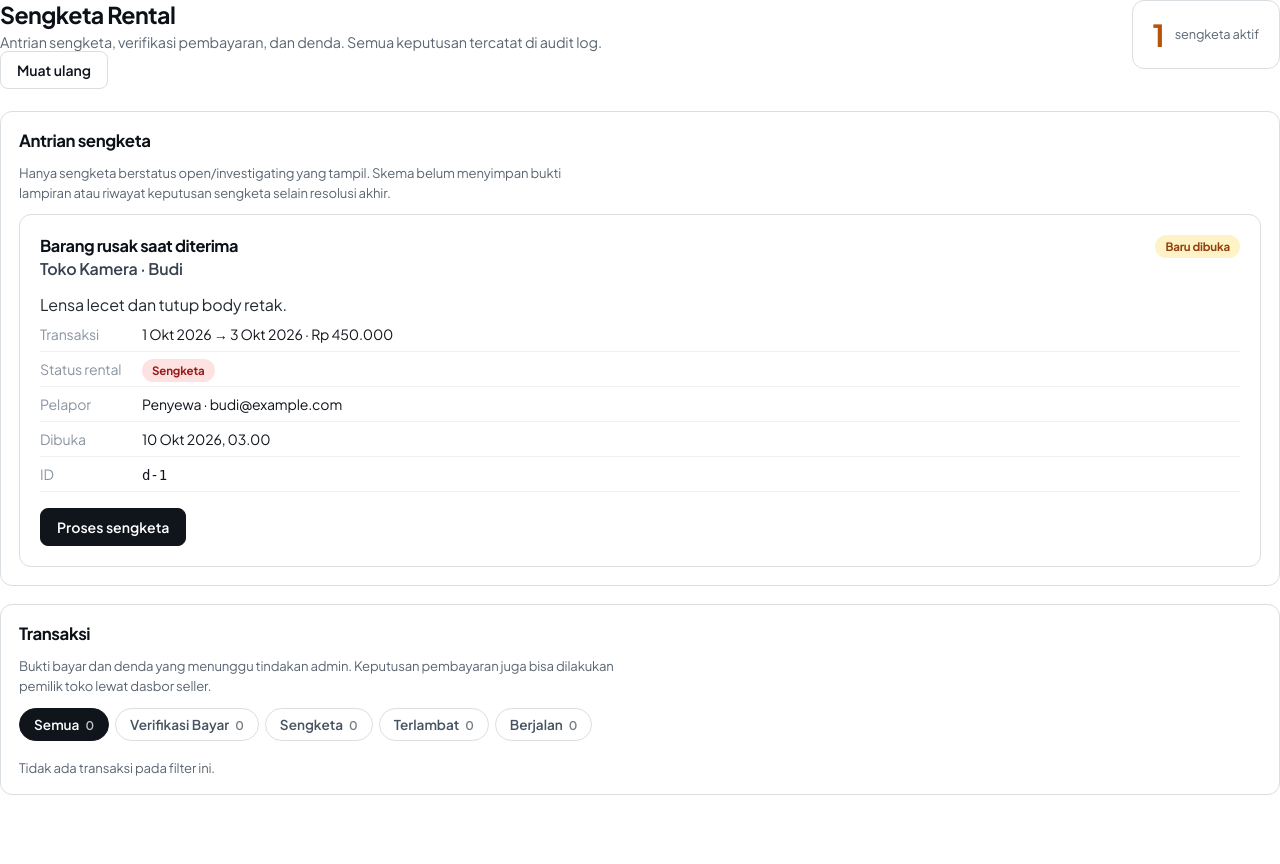
Test case: AdminOrders — resolusi sengketa › gagal: error diterjemahkan dan isian resolusi tidak hilang
Expected: the heading "Barang rusak saat diterima" is shown, [40,235,238,256]
Click the button "Proses sengketa": (113, 527) [40,508,186,546]
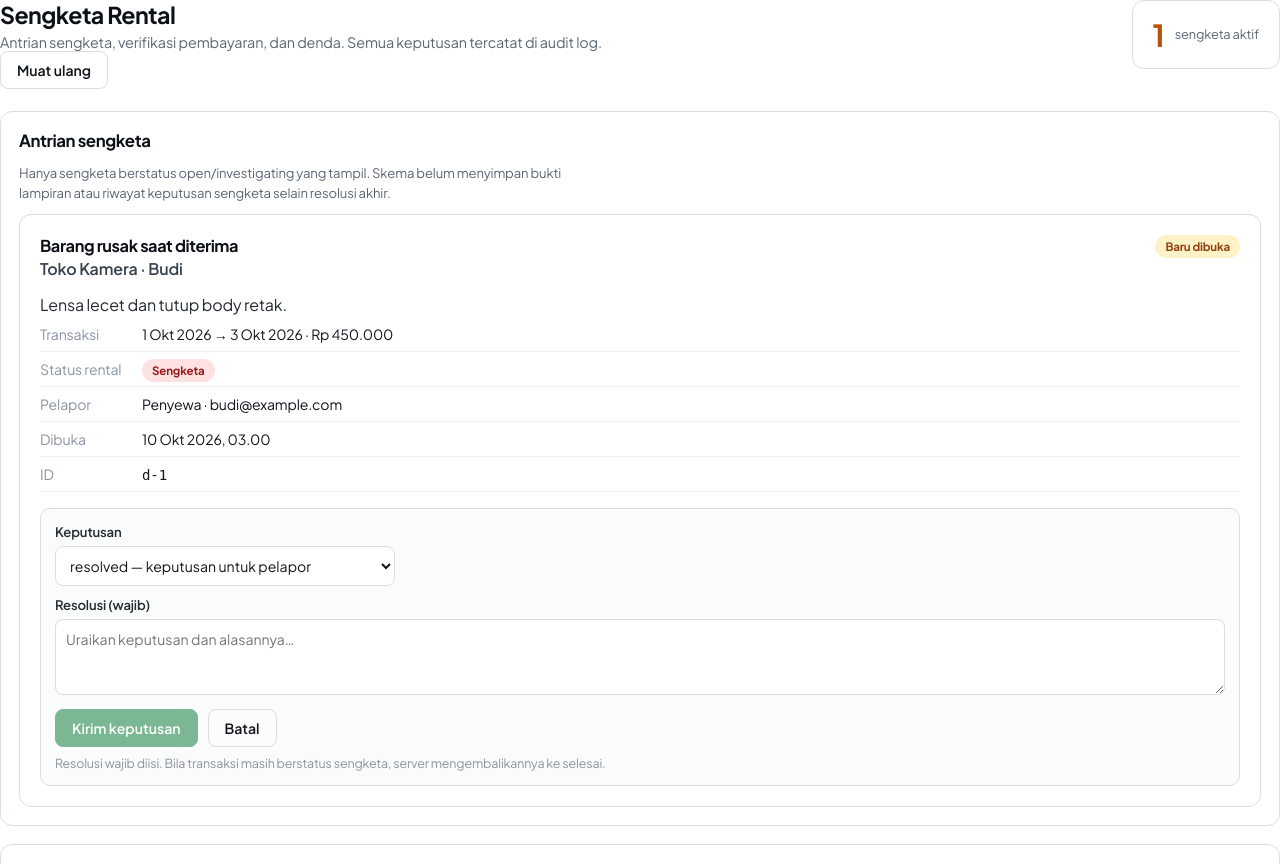
In the text box labelled "Resolusi (wajib)": (640, 657) [55,619,1225,695], type "Keputusan sementara"
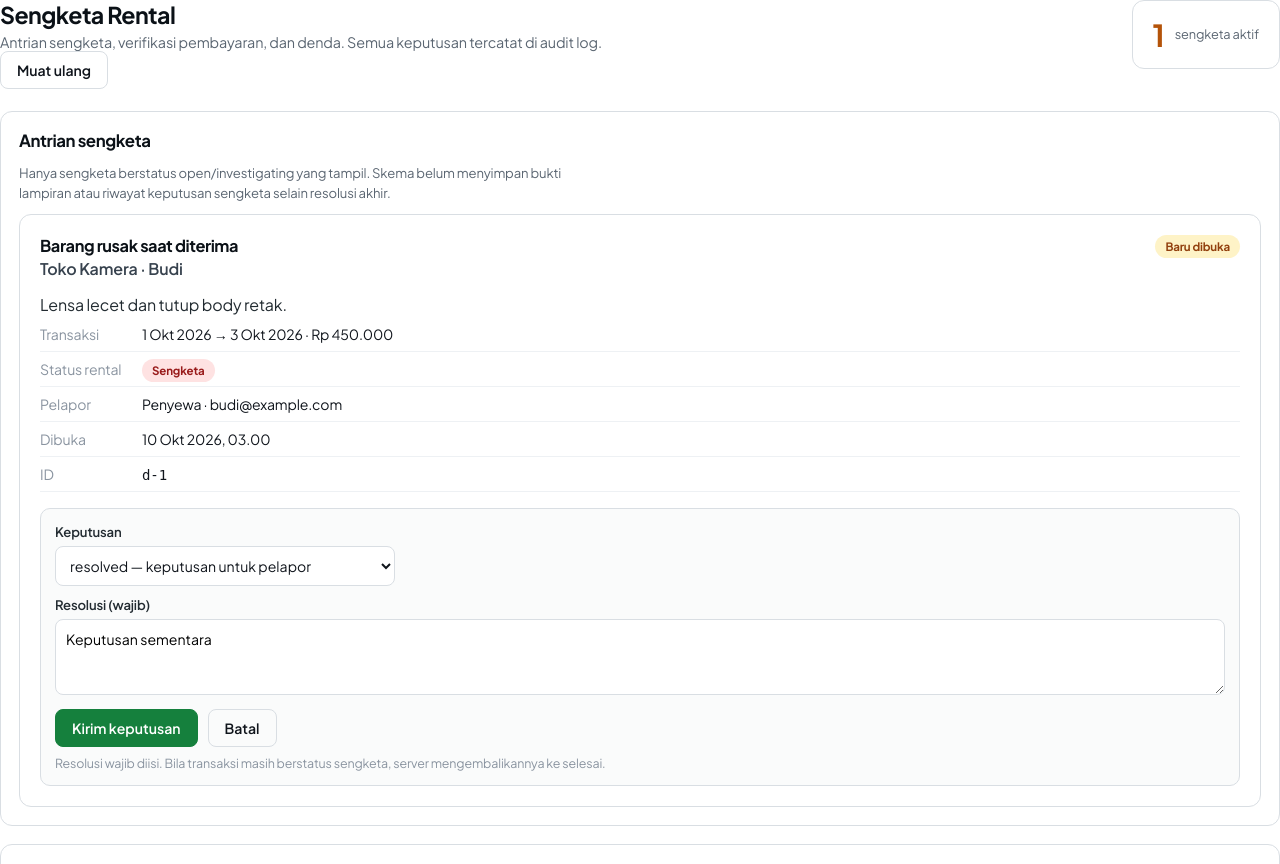
Click the button "Kirim keputusan": (126, 728) [55,709,198,747]
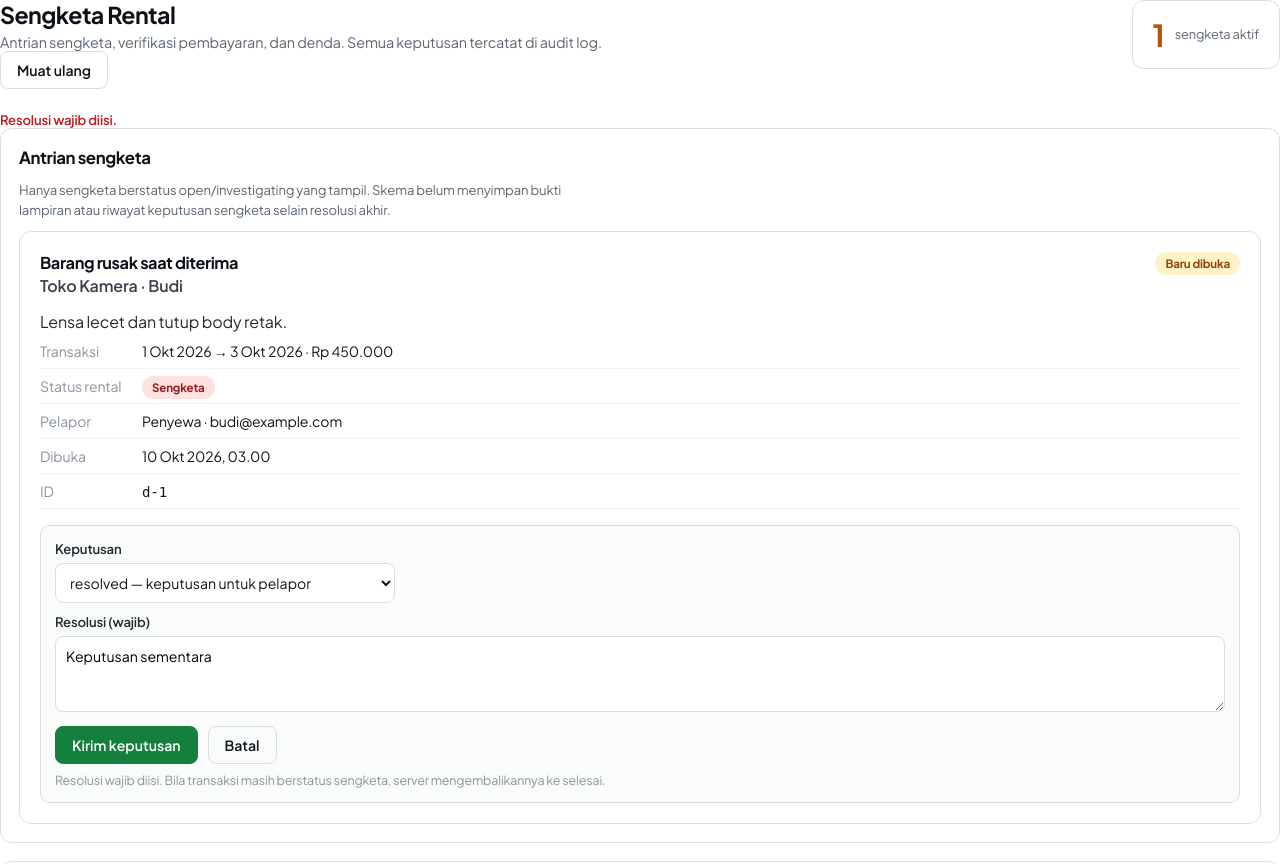
Result: the message reads "Resolusi wajib diisi." at [0,111,117,128]
